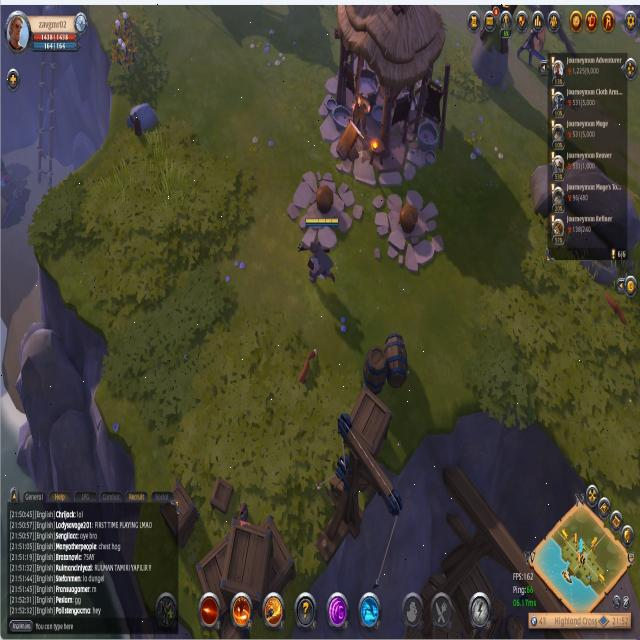stone: (125, 97, 161, 139)
